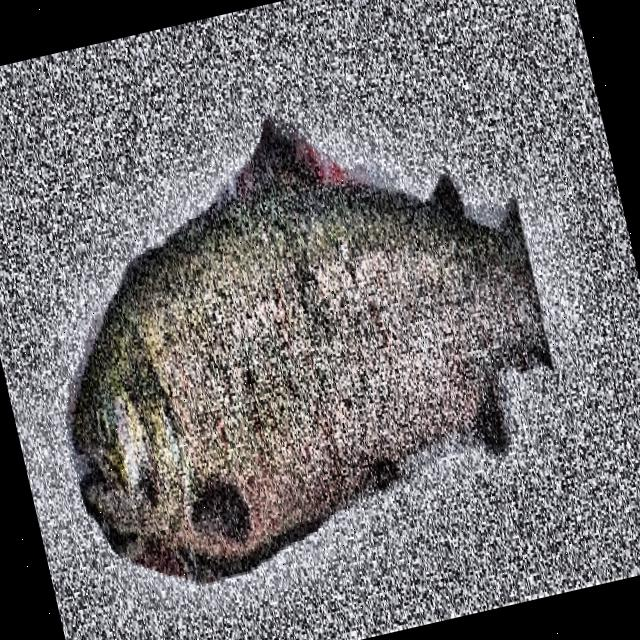mild_red: (141, 176, 550, 571)
